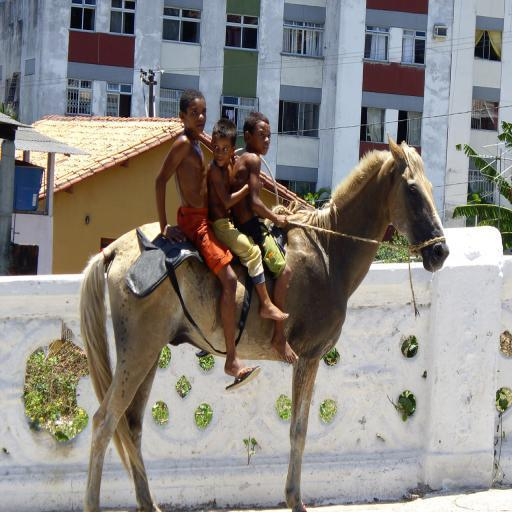horse: (80, 132, 450, 512)
